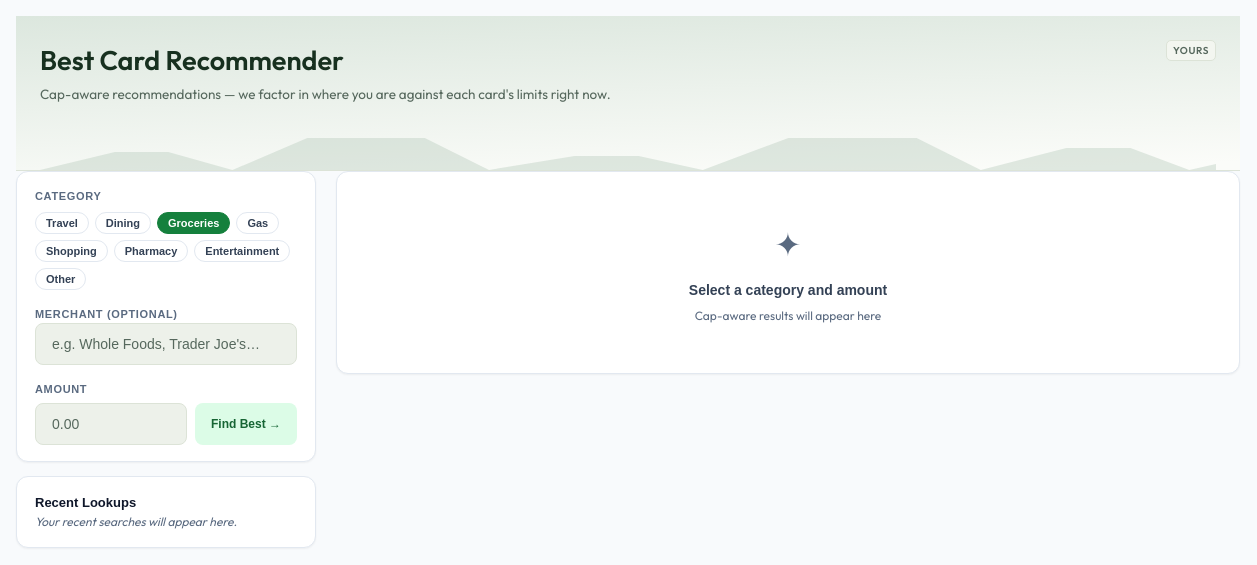
Test: Best Card: no card covers this (D-318) › still shows the error for a real failure
Click the button "Gas": x=258, y=223 [236,212,279,234]
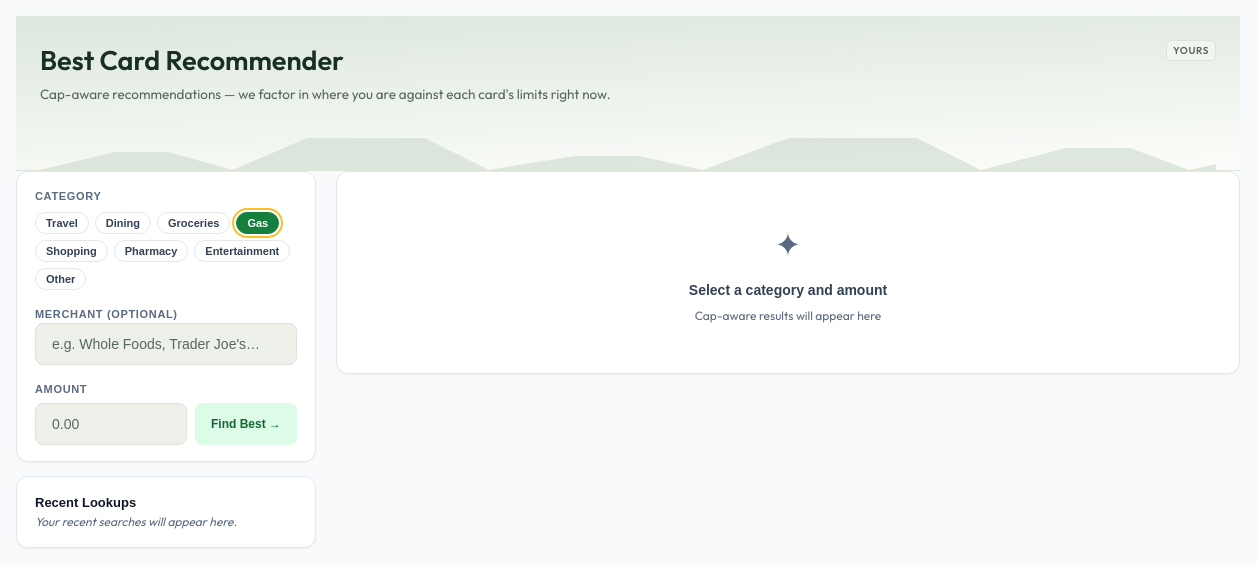
In the field with placeholder "0.00": x=111, y=424 [35,403,187,445], type "125"
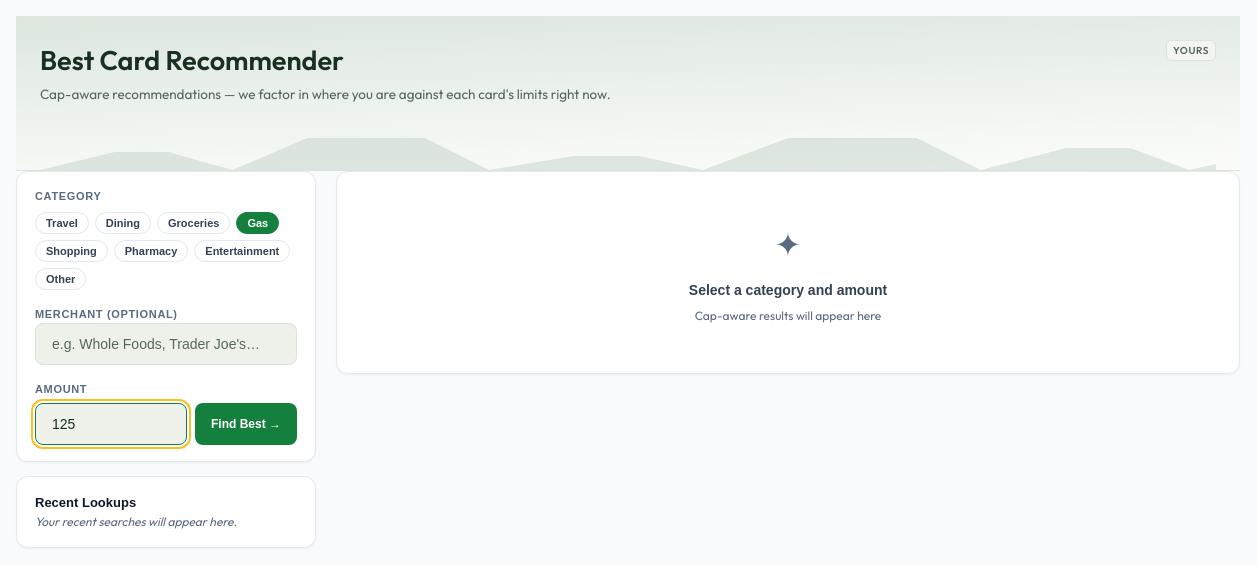
Click the button "Find Best →": x=246, y=424 [195,403,297,445]
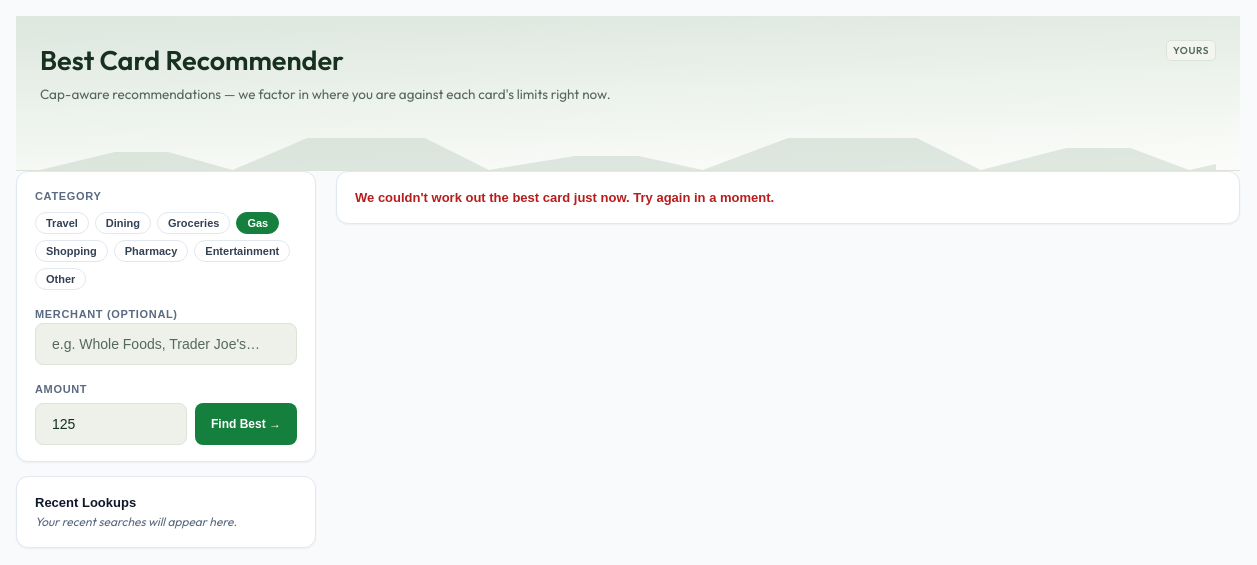
Now the text "couldn't work out the best card" is shown, box [355,190,774,205]
